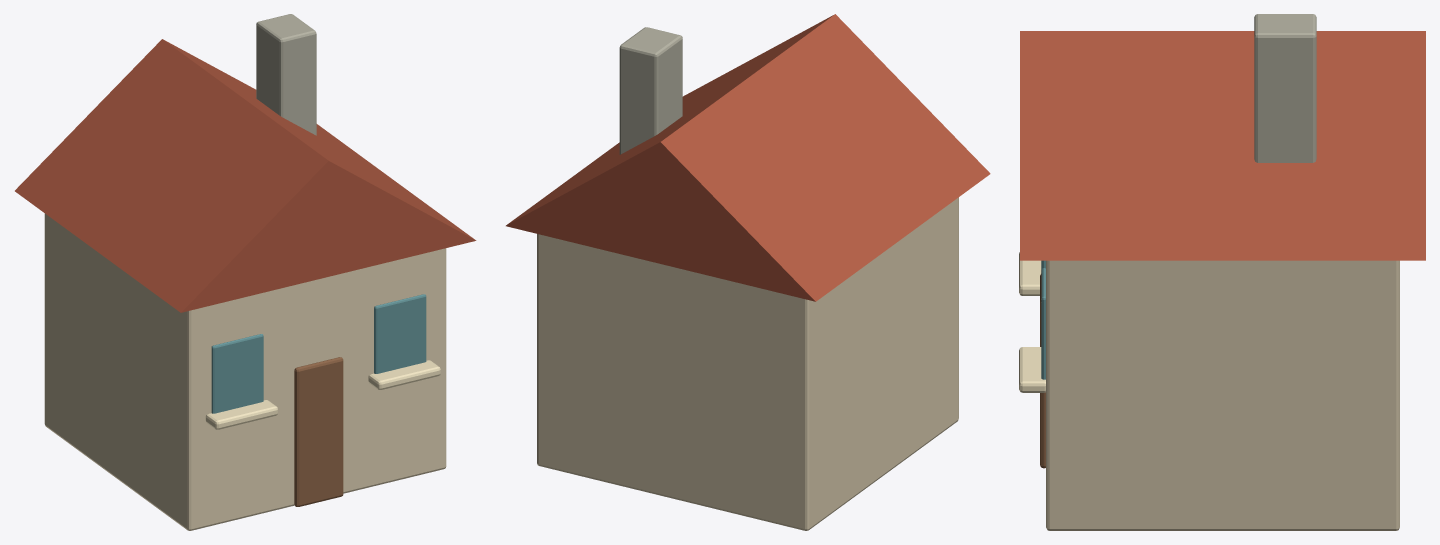
Rendered from cottage.glb.
3 renders of one model, left to right at view 1: azimuth 30°, elevation 25°; view 2: azimuth 150°, elevation 25°; view 3: azimuth 270°, elevation 25°, orthographic. The views are drawn at different scales.
Visible parts, largest first — view 1: cottage_plaster, cottage_red, cottage_glass, cottage_wood, cottage_stone, cottage_cream; view 2: cottage_plaster, cottage_red, cottage_stone; view 3: cottage_plaster, cottage_red, cottage_stone, cottage_cream, cottage_glass, cottage_wood.
Part boxes in pixels (box(x1,y1,x2,y2)): cottage_plaster: box(44, 213, 446, 530); cottage_red: box(15, 39, 476, 312); cottage_glass: box(211, 294, 426, 413); cottage_wood: box(294, 357, 343, 506); cottage_stone: box(256, 14, 316, 135); cottage_cream: box(205, 360, 440, 429); cottage_plaster: box(537, 197, 958, 530); cottage_red: box(506, 14, 990, 301); cottage_stone: box(619, 27, 682, 154); cottage_plaster: box(1046, 260, 1399, 530); cottage_red: box(1020, 31, 1425, 260); cottage_stone: box(1254, 14, 1316, 162); cottage_cream: box(1019, 252, 1045, 392); cottage_glass: box(1041, 260, 1045, 379); cottage_wood: box(1040, 274, 1045, 468).
Size of the model in its own units: 4 by 5 by 3.91.
